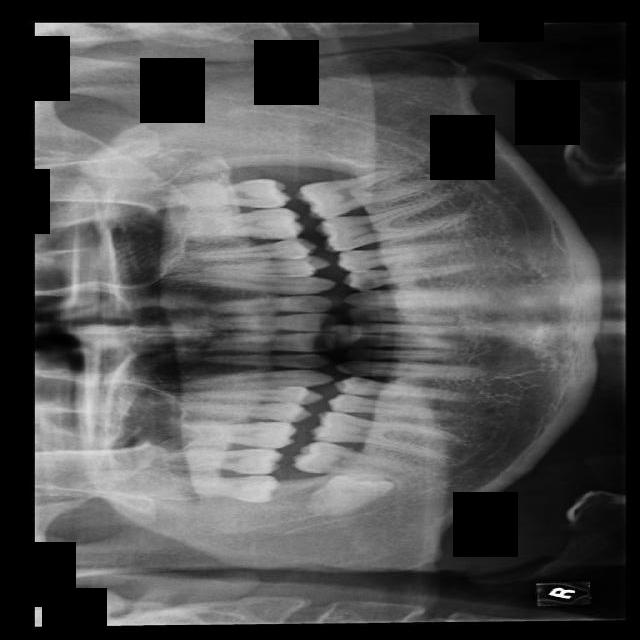3M ESPE Implant: (173, 475, 283, 503)
73: (584, 28, 595, 40)
BioHorizons Implant: (158, 177, 291, 211)
Blue Sky Bio Implant: (293, 161, 436, 224)
Caries: (154, 446, 282, 474)
Implant: (291, 437, 418, 484)
Keystone Dental Implant: (300, 452, 398, 532)
